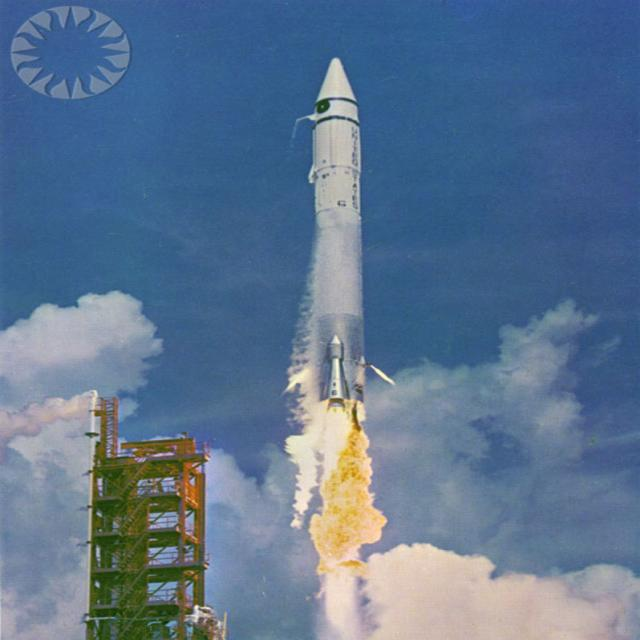missile: (303, 58, 375, 343)
